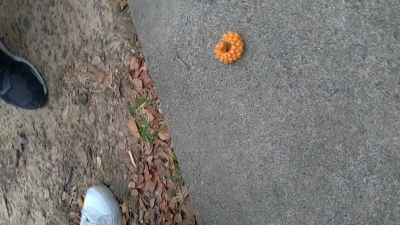eggs: (213, 32, 246, 64)
